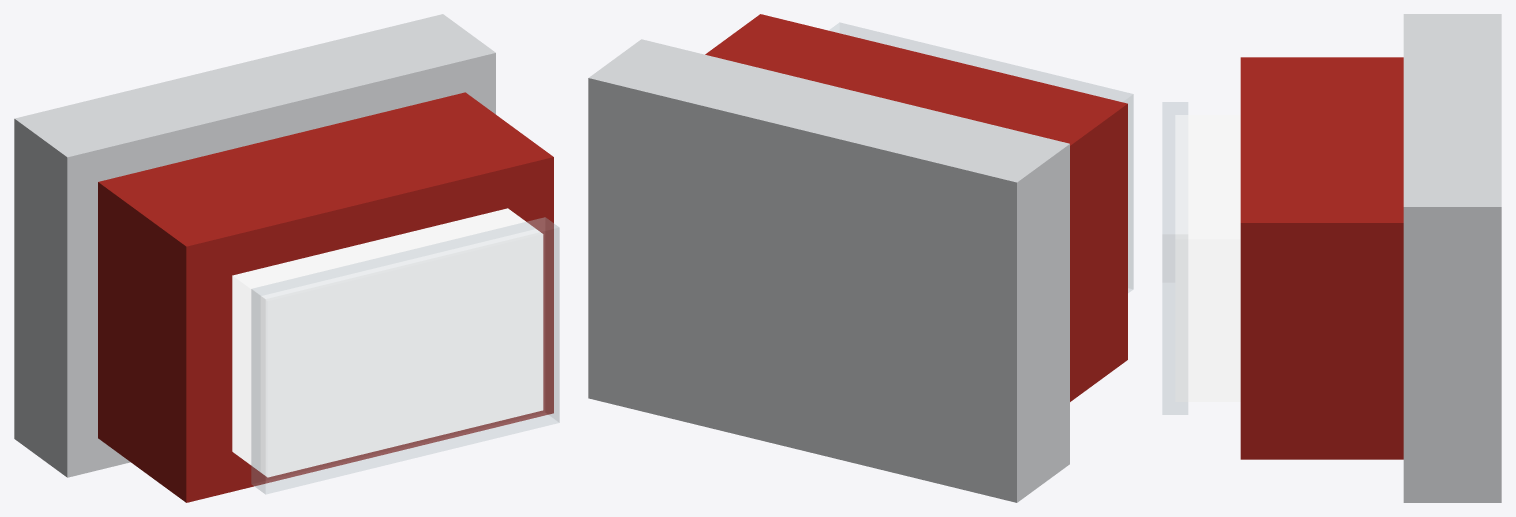
Rendered from beacon_strobe_light.glb.
3 views of the same model, side by side, from view 1: azimuth 30°, elevation 25°; view 2: azimuth 150°, elevation 25°; view 3: azimuth 270°, elevation 25° (orthographic). The views are drawn at different scales.
Parts seen in each view (by area): view 1: beacon_strobe_light; view 2: beacon_strobe_light; view 3: beacon_strobe_light.
Boxes of the visible parts, <box> form: beacon_strobe_light: <box>14,14,559,502</box>; beacon_strobe_light: <box>588,14,1133,502</box>; beacon_strobe_light: <box>1162,14,1501,502</box>.
Size of the model in its own units: 0.14 by 0.1 by 0.104.
